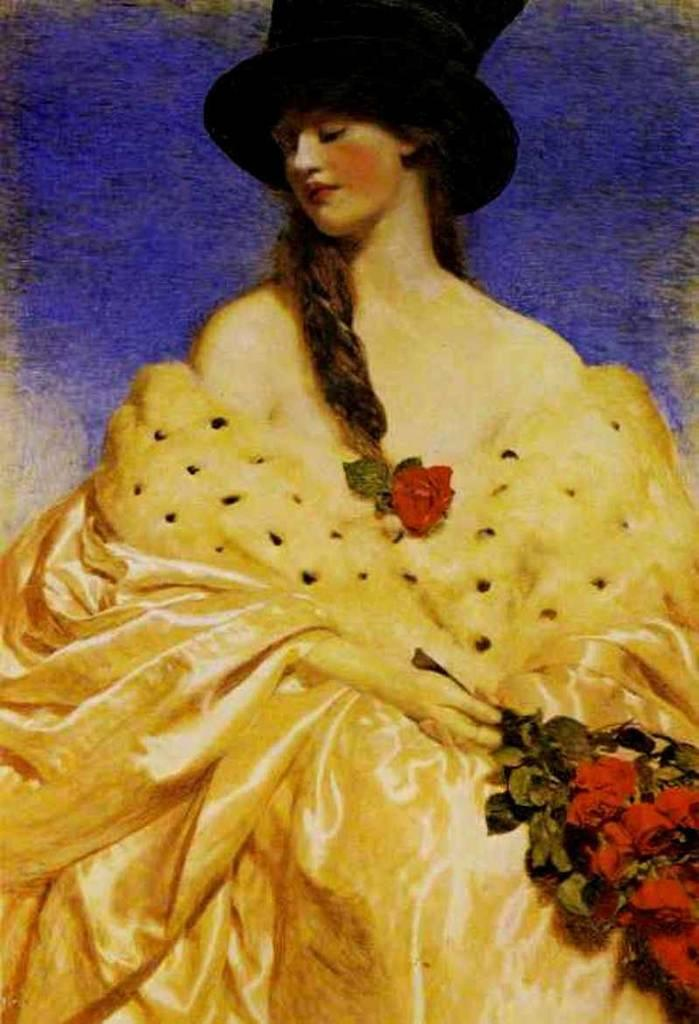Hat: (198, 0, 521, 222)
